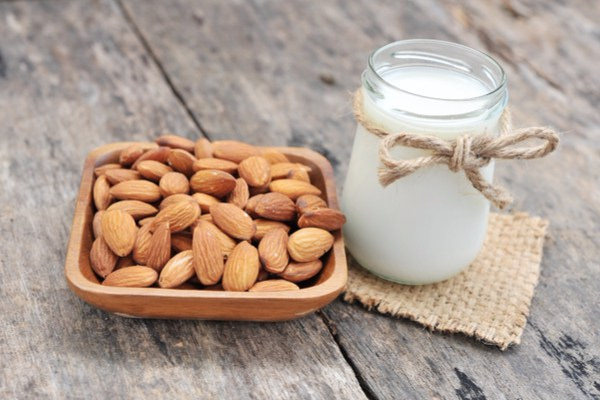glass of milk: (365, 51, 495, 278)
